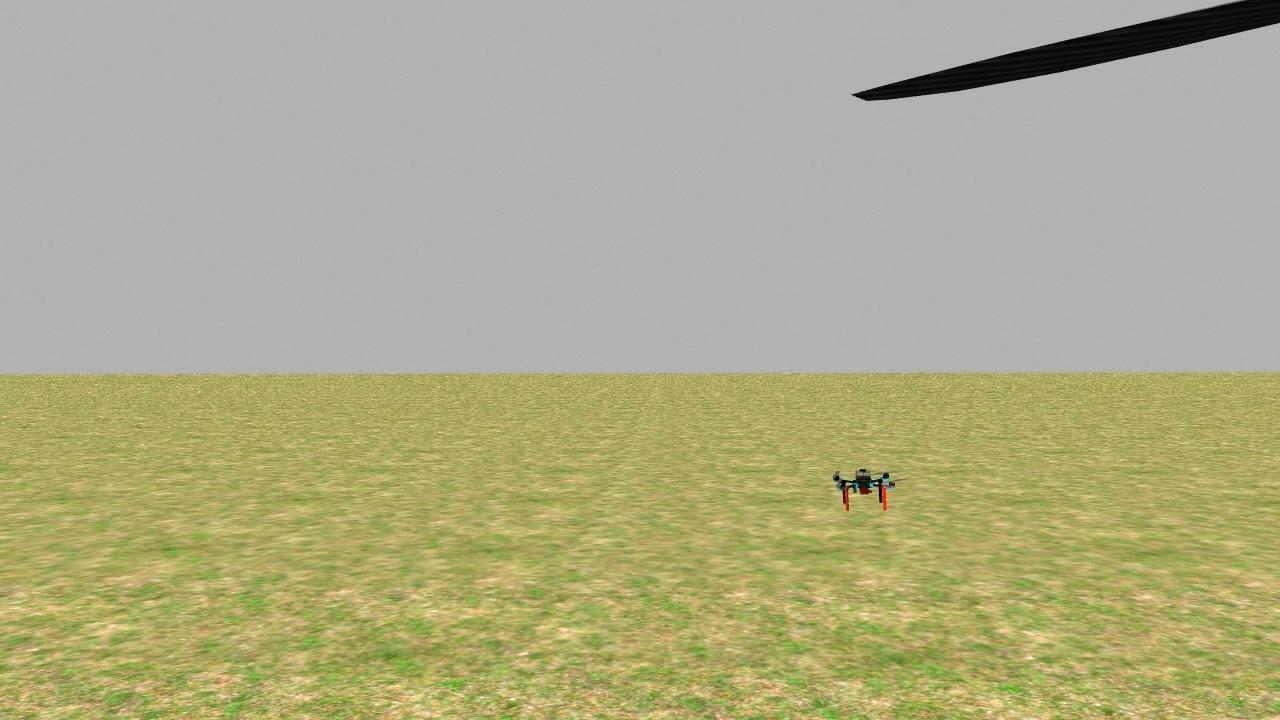UAV: (814, 441, 916, 516)
